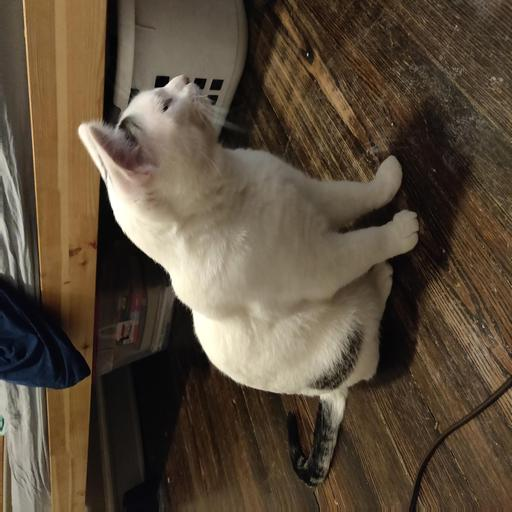cat: (77, 70, 372, 365)
